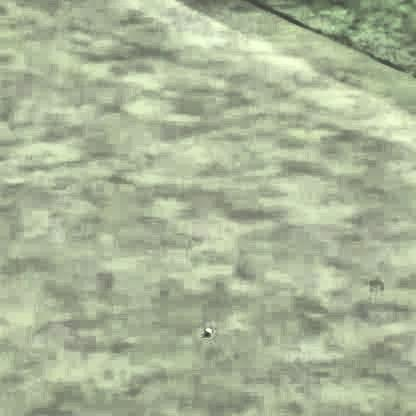golfball: (203, 323, 210, 333)
